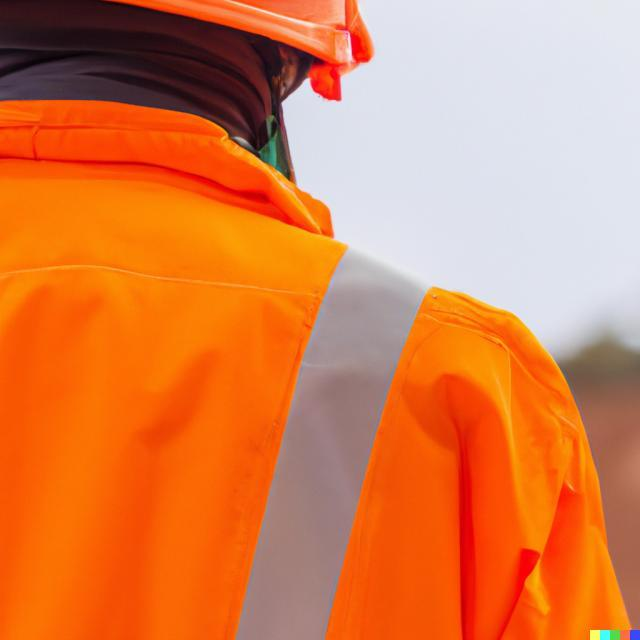reflective_jacket: (1, 97, 638, 639)
safety_helmet: (11, 1, 381, 71)
